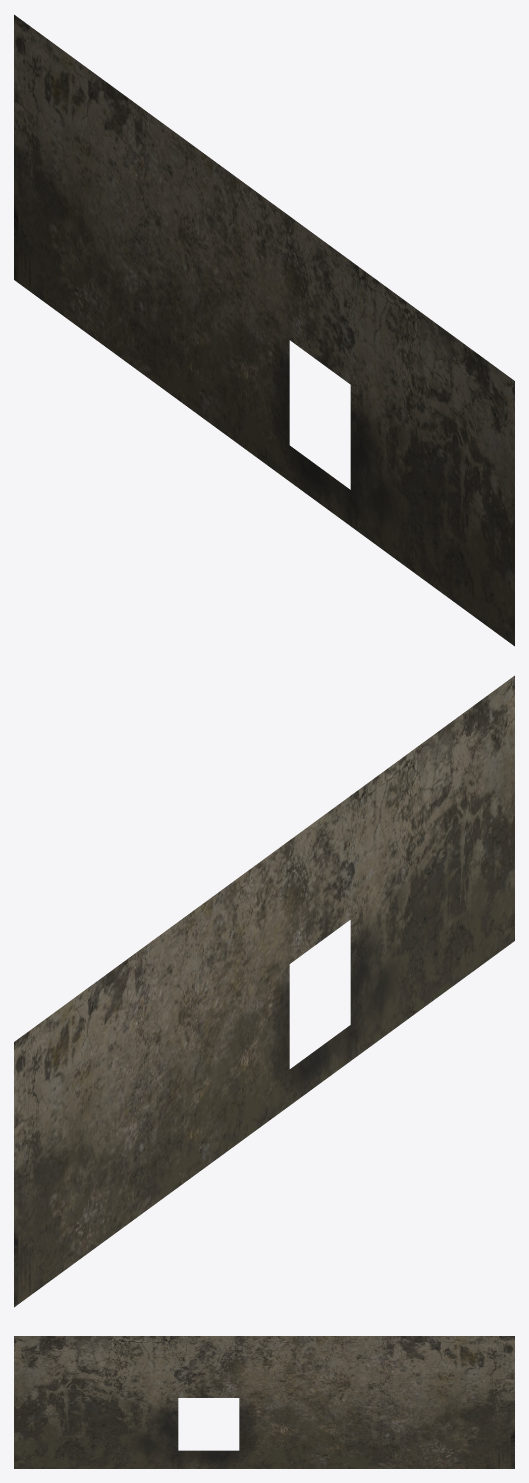
File: Wall_02.FBX
The picture shows the model from 3 angles, top to bottom: view 1: azimuth 30°, elevation 25°; view 2: azimuth 150°, elevation 25°; view 3: azimuth 270°, elevation 25°; orthographic projection. The views are drawn at different scales.
Parts seen in each view (by area): view 1: Wall_02; view 2: Wall_02; view 3: Wall_02.
Boxes of the visible parts, <box> form: Wall_02: <box>14,14,514,646</box>; Wall_02: <box>14,675,514,1307</box>; Wall_02: <box>14,1336,514,1468</box>.
Bounding box in the file's own units: 0.0133 × 511 × 1748.
